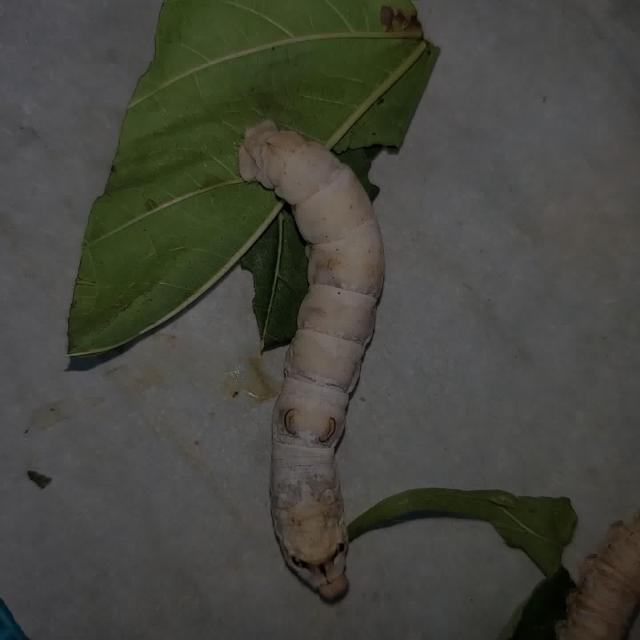Grasserie: (212, 102, 427, 606)
